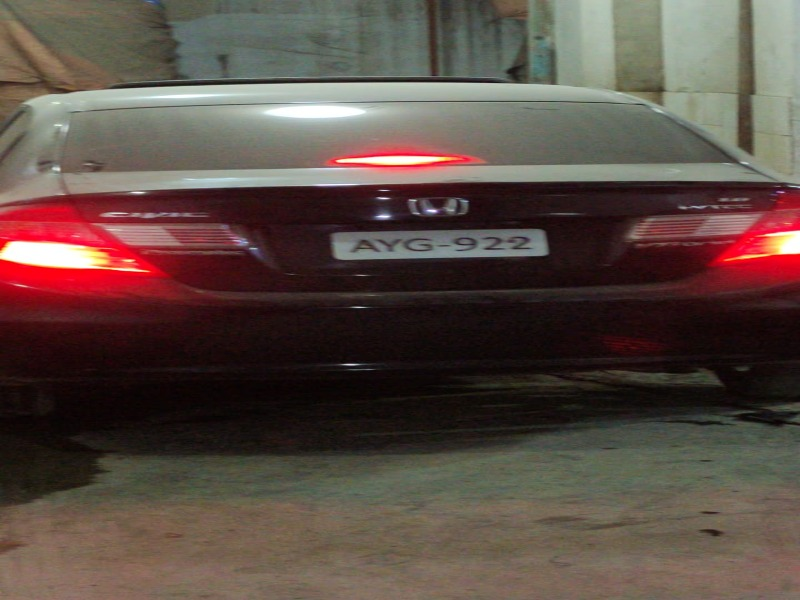License Plate: (328, 226, 549, 268)
